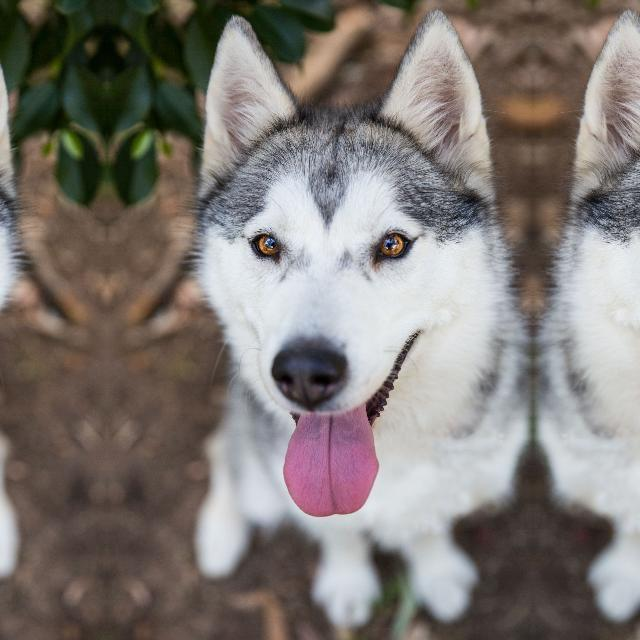dog: (171, 7, 533, 638), (532, 6, 640, 637), (0, 6, 41, 637)
